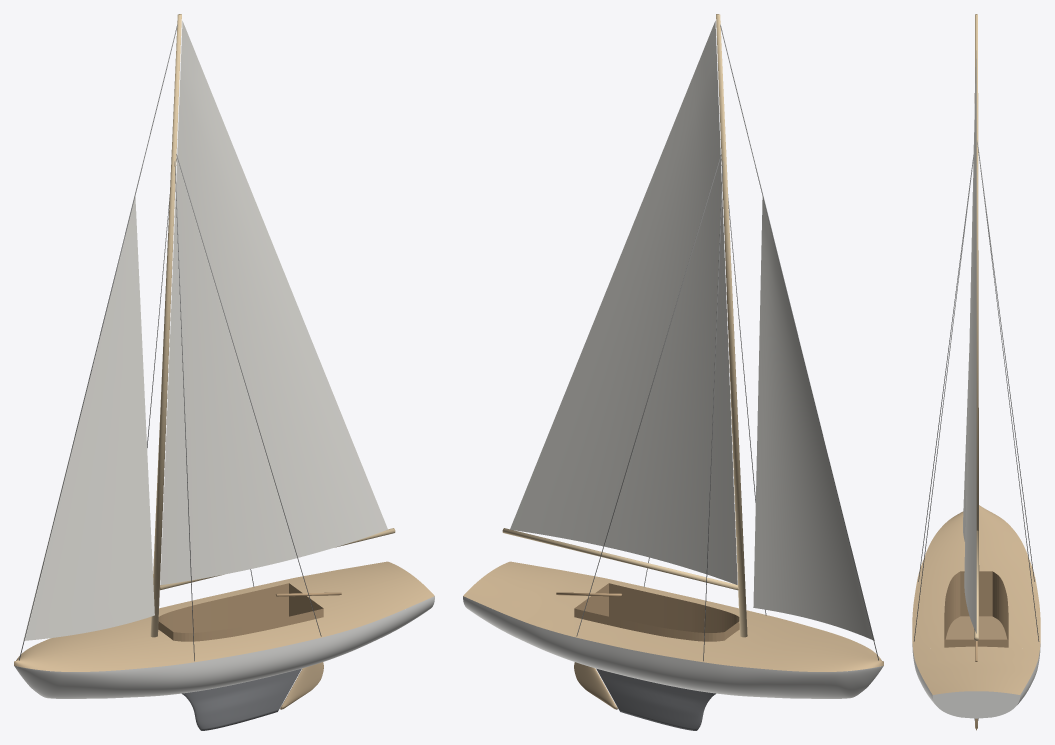
Rendered from moucheron.glb.
3 views of the same model, side by side, from view 1: azimuth 30°, elevation 25°; view 2: azimuth 150°, elevation 25°; view 3: azimuth 270°, elevation 25° (orthographic). The views are drawn at different scales.
Parts seen in each view (by area): view 1: Grand_voile, Foc, Pont, Coque, Hiloire, Mat, Quille, Greement_courant, Safran; view 2: Grand_voile, Foc, Pont, Coque, Hiloire, Mat, Quille, Greement_courant, Bome, Safran; view 3: Pont, Grand_voile, Hiloire, Coque, Greement_courant, Mat, Cockpit, Foc, Bome.
Boxes of the visible parts, x1,y1,x2,y2 form: Grand_voile: [160, 21, 387, 585]; Foc: [23, 197, 154, 640]; Pont: [14, 561, 434, 671]; Coque: [14, 596, 434, 698]; Hiloire: [158, 583, 323, 641]; Mat: [150, 14, 181, 637]; Quille: [182, 668, 301, 730]; Greement_courant: [19, 24, 321, 661]; Safran: [280, 662, 323, 709]; Grand_voile: [510, 21, 737, 584]; Foc: [753, 197, 874, 640]; Pont: [463, 561, 883, 671]; Coque: [463, 596, 883, 698]; Hiloire: [574, 583, 739, 641]; Mat: [716, 14, 747, 637]; Quille: [596, 668, 715, 730]; Greement_courant: [576, 24, 878, 661]; Bome: [502, 528, 738, 590]; Safran: [574, 662, 617, 709]; Pont: [912, 505, 1040, 694]; Grand_voile: [964, 50, 976, 633]; Hiloire: [944, 571, 1008, 647]; Coque: [912, 644, 1040, 718]; Greement_courant: [913, 140, 1039, 641]; Mat: [974, 14, 979, 570]; Cockpit: [945, 616, 1007, 639]; Foc: [963, 353, 969, 541]; Bome: [974, 530, 978, 640].
Bounding box in the file's own units: 5.3 × 9.19 × 1.6.
